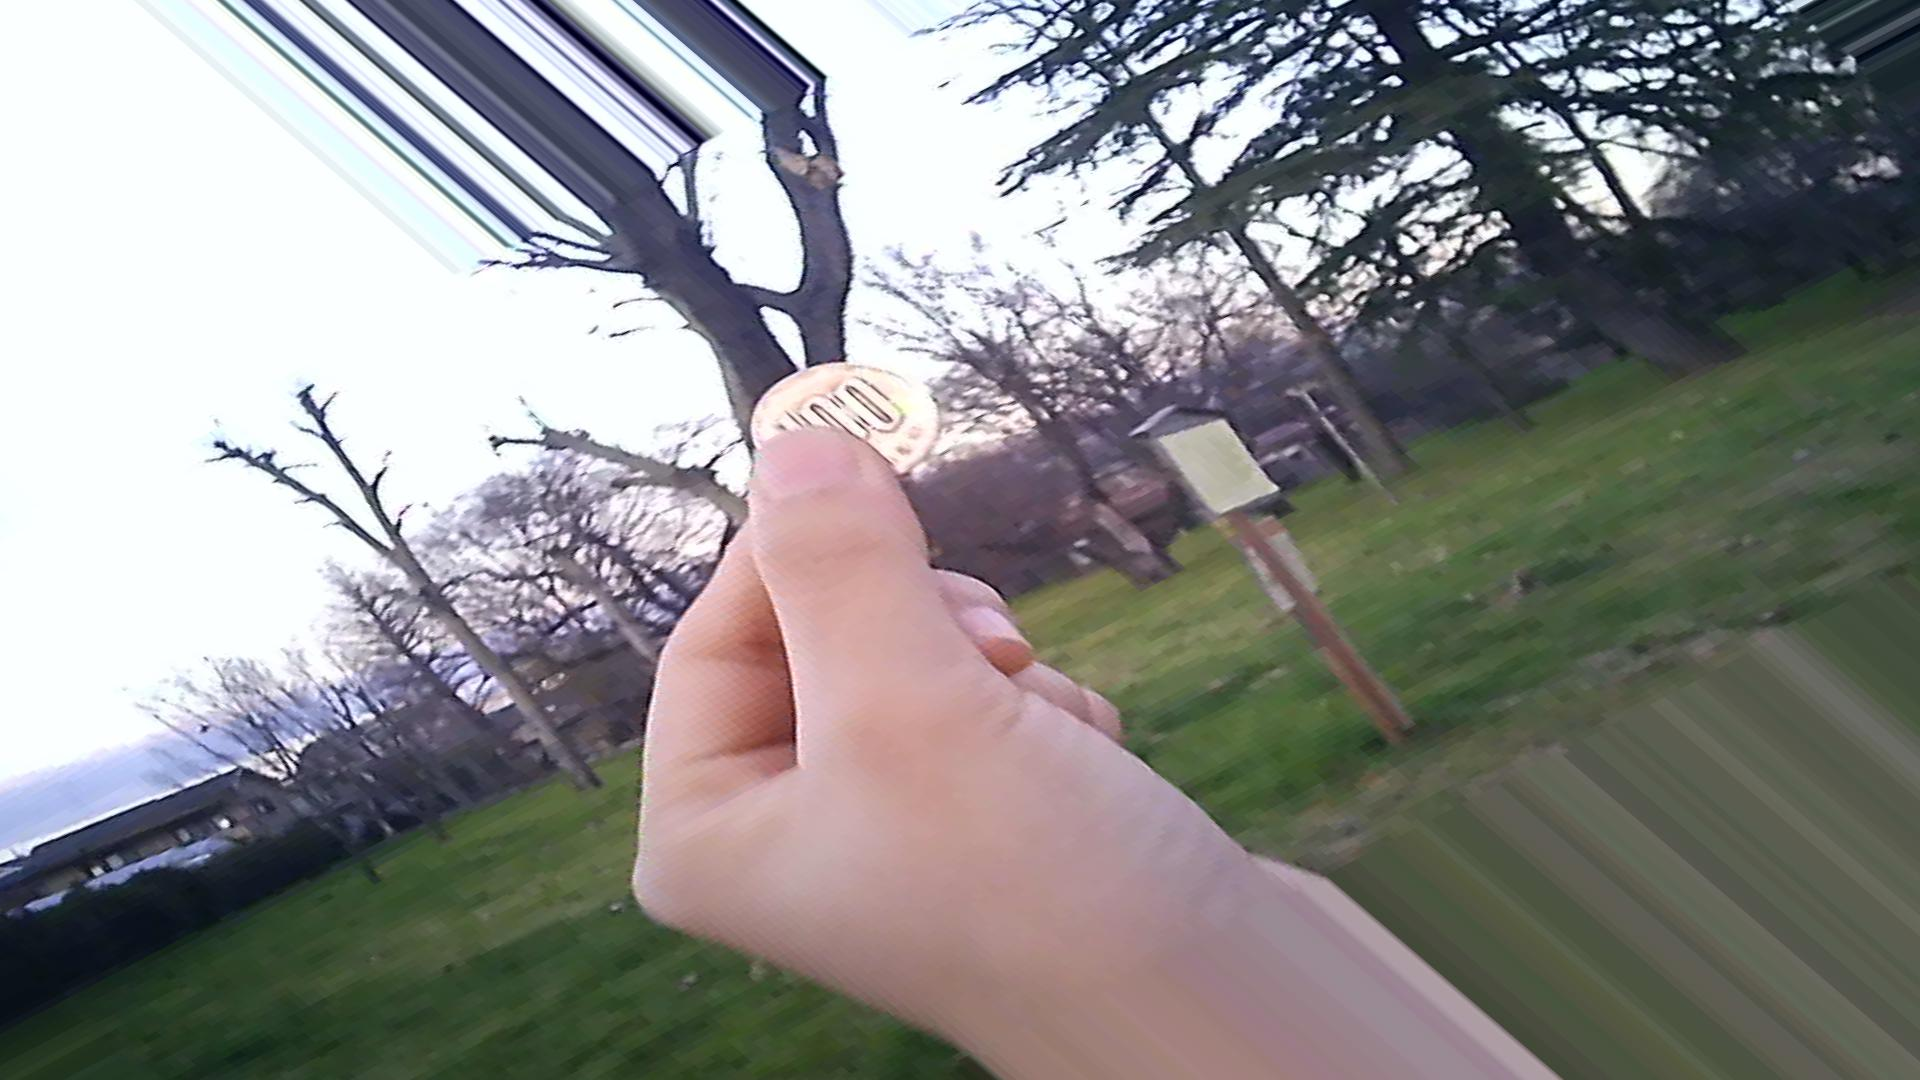100 Yen: (738, 353, 939, 493)
